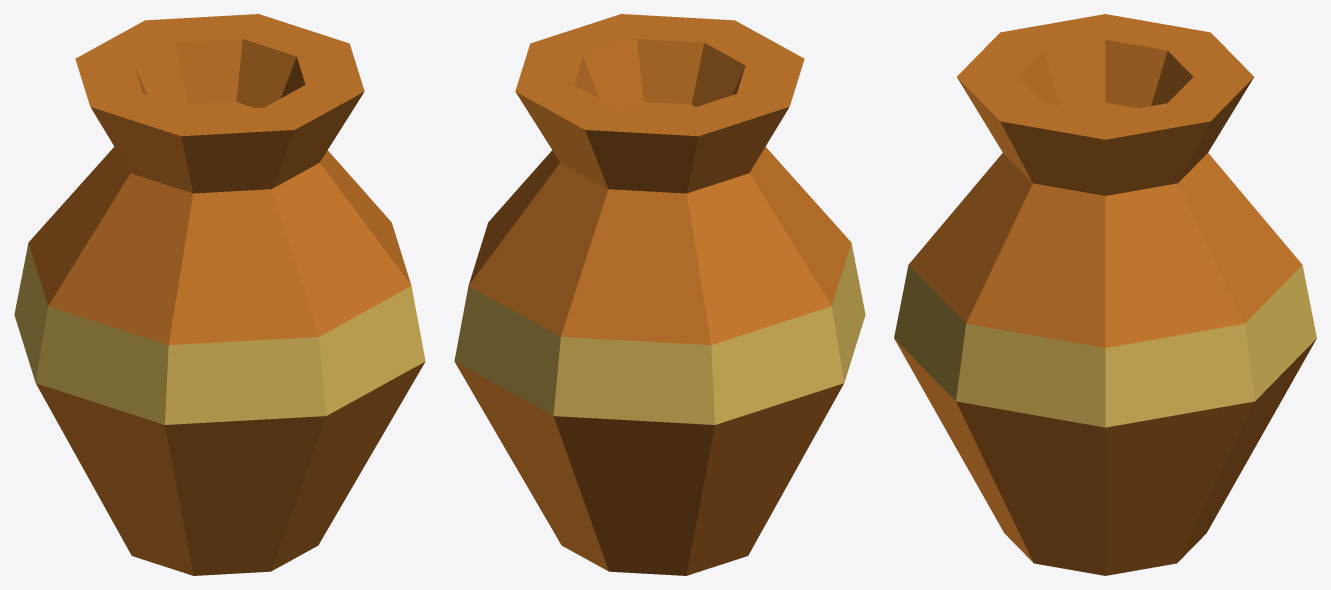
File: Jarroncolor.fbx
The picture shows the model from 3 angles, left to right: view 1: azimuth 30°, elevation 25°; view 2: azimuth 150°, elevation 25°; view 3: azimuth 270°, elevation 25°; orthographic projection.
Parts seen in each view (by area): view 1: Cylinder; view 2: Cylinder; view 3: Cylinder.
Part boxes in pixels (x1,y1,x2,y2): Cylinder: (14,14,425,575); Cylinder: (454,14,865,575); Cylinder: (894,14,1316,575).
Size of the model in its own units: 10 by 11.91 by 10.
